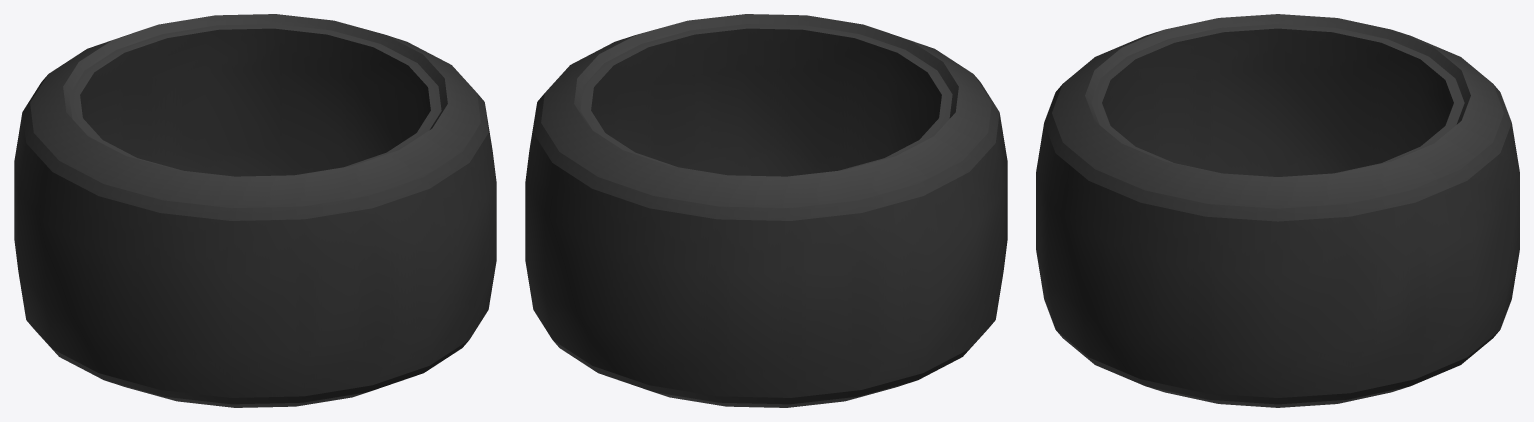
Rendered from TireBase.fbx.
3 renders of one model, left to right at view 1: azimuth 30°, elevation 25°; view 2: azimuth 150°, elevation 25°; view 3: azimuth 270°, elevation 25°, orthographic.
Visible parts, largest first — view 1: tire_1; view 2: tire_1; view 3: tire_1.
Boxes of the visible parts, left/top/right/bottom form: tire_1: left=14, top=14, right=496, bottom=407; tire_1: left=525, top=14, right=1007, bottom=407; tire_1: left=1036, top=14, right=1519, bottom=407.
Bounding box in the file's own units: 0.3907 × 0.2056 × 0.3907.
